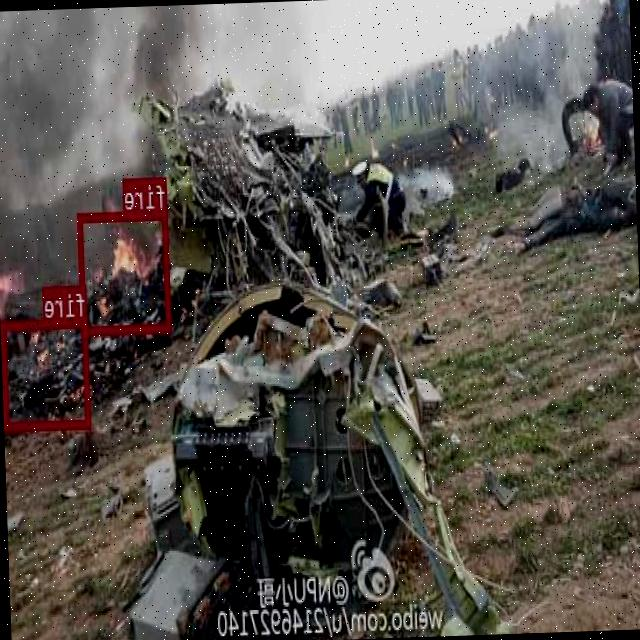fire: (77, 208, 172, 334), (2, 316, 92, 428)
